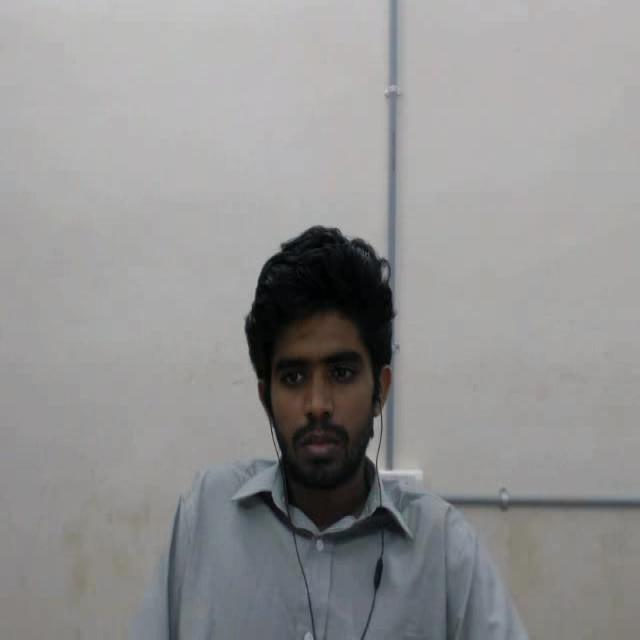Engaged: (221, 192, 427, 534)
